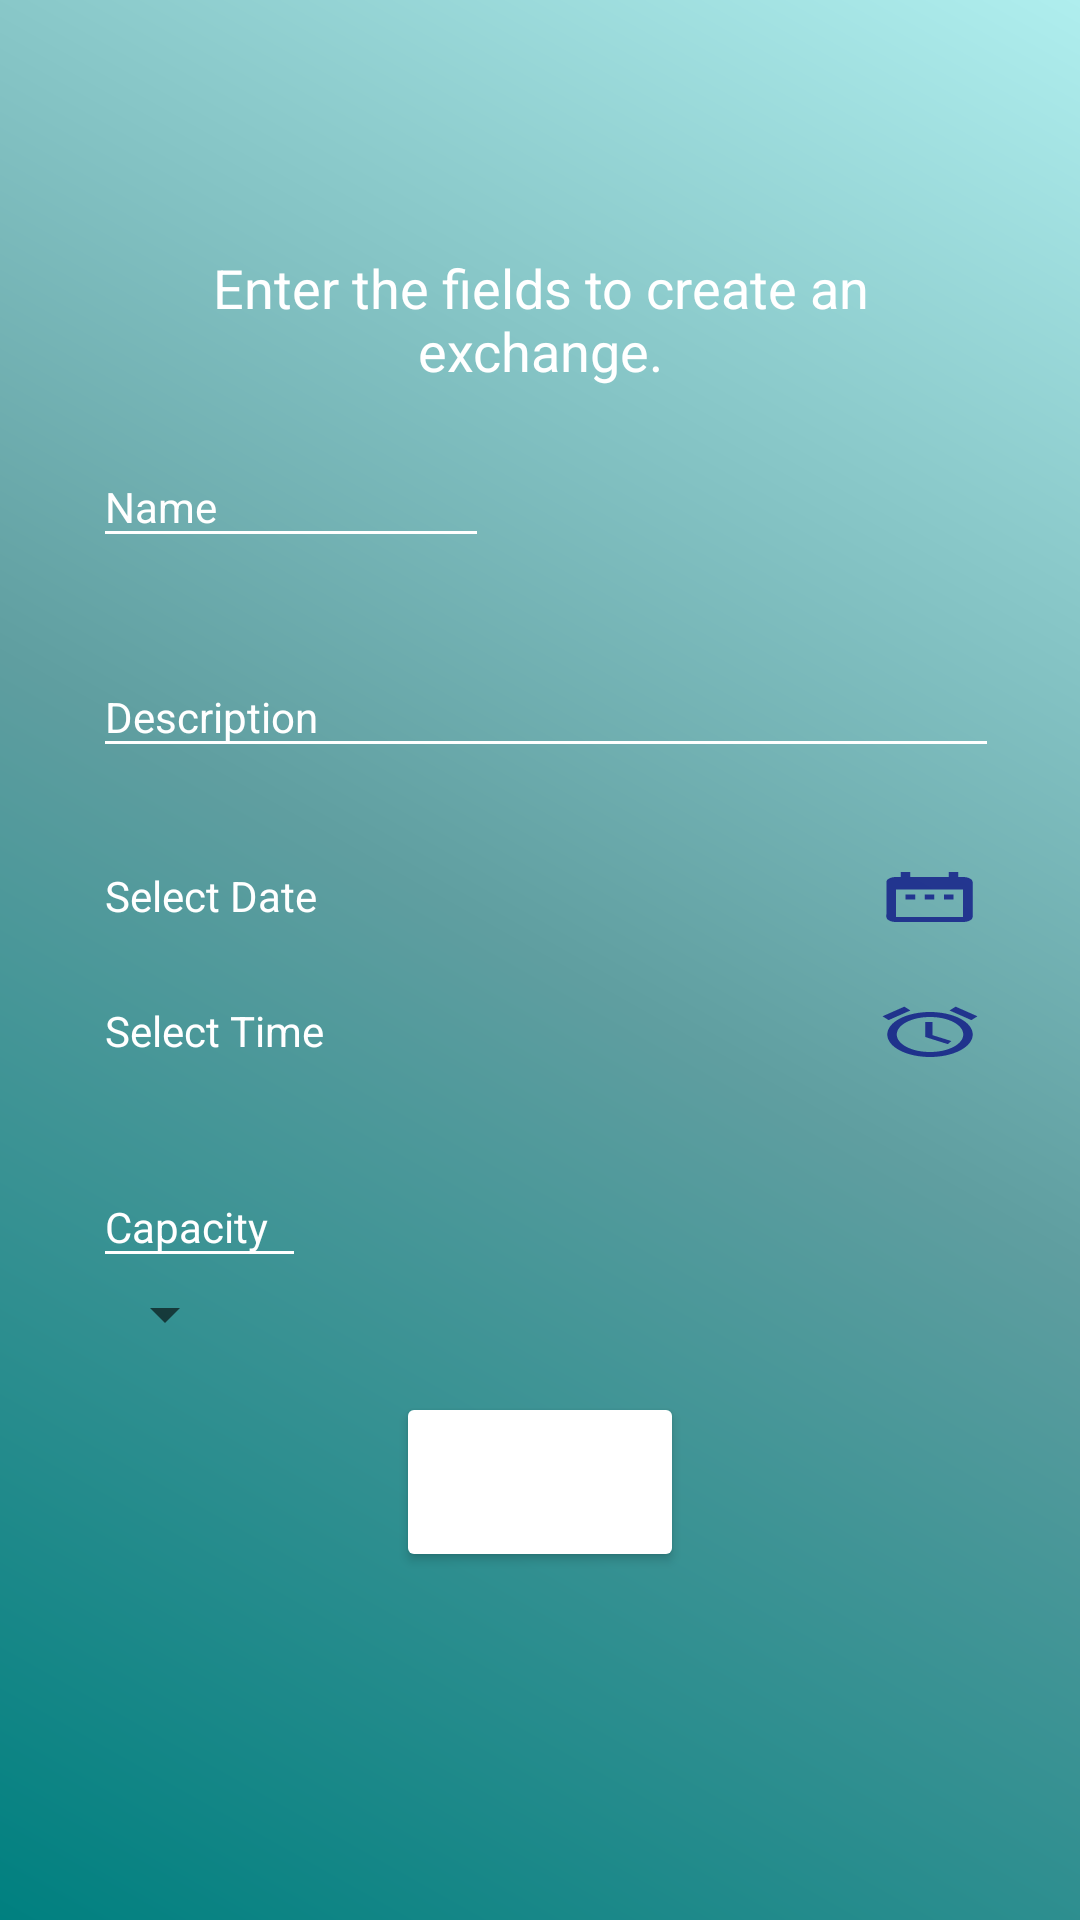

Locate icon controls on the screen. Image size 1080px x 1920px, boxes as bbox=(x1, y1, x2, y2).
alarm: bbox=(883, 1007, 977, 1057)
date range: bbox=(886, 872, 973, 922)
